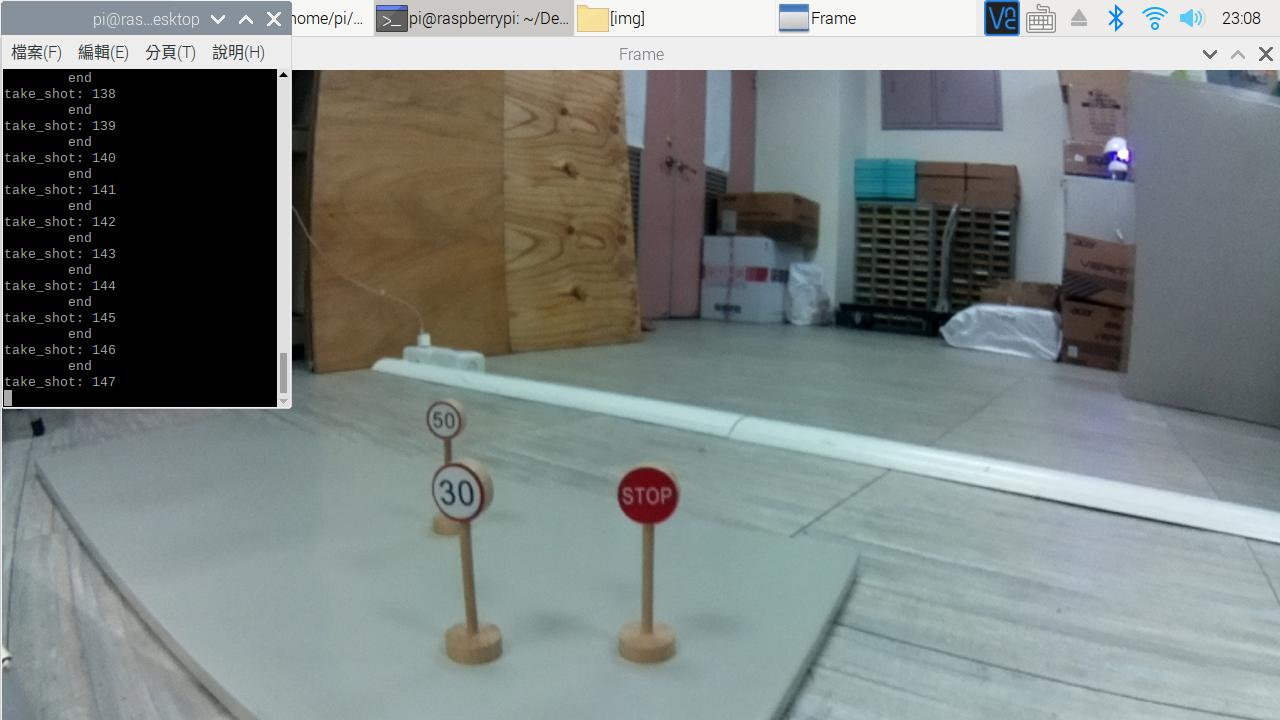Speed30: (413, 459, 529, 540)
Speed50: (413, 386, 481, 453)
Stop: (608, 447, 700, 546)
